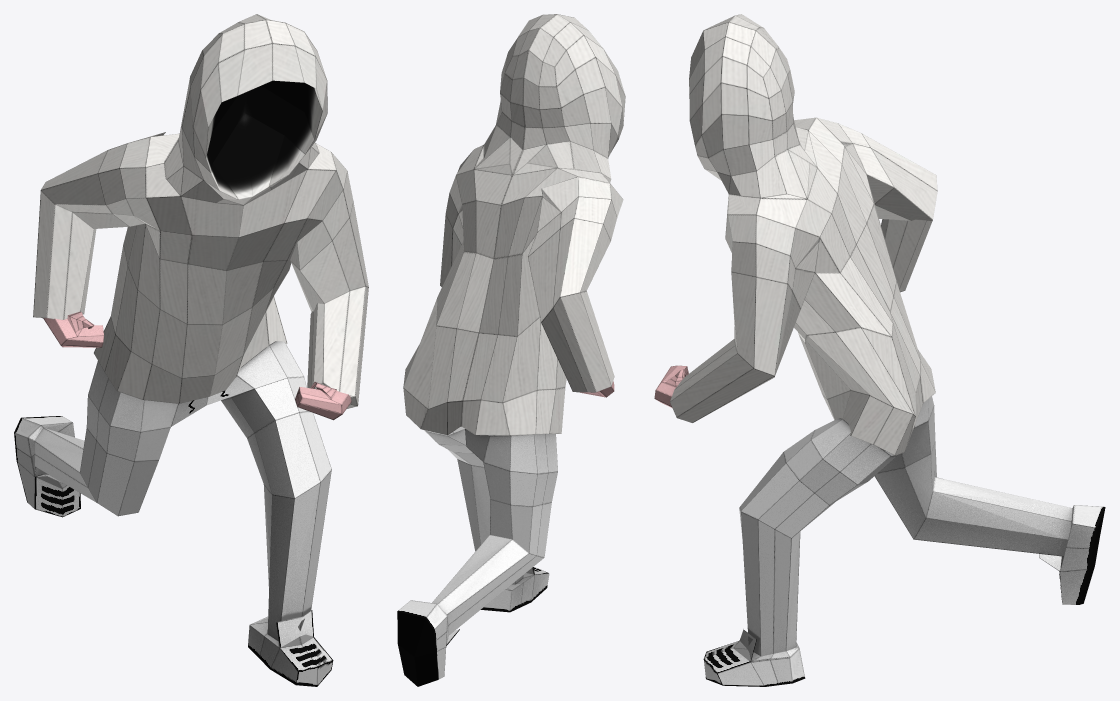
The model's file is Shadowmanv_000019.obj.
3 views of the same model, side by side, from view 1: azimuth 30°, elevation 25°; view 2: azimuth 150°, elevation 25°; view 3: azimuth 270°, elevation 25° (orthographic). The views are drawn at different scales.
Visible parts, largest first — view 1: Cube.000; view 2: Cube.000; view 3: Cube.000.
Part boxes in pixels (box(x1,y1,x2,y2)): Cube.000: box(14, 14, 368, 686); Cube.000: box(397, 14, 625, 686); Cube.000: box(654, 14, 1105, 686).
Bounding box in the file's own units: 4.46 × 10.81 × 6.91.
